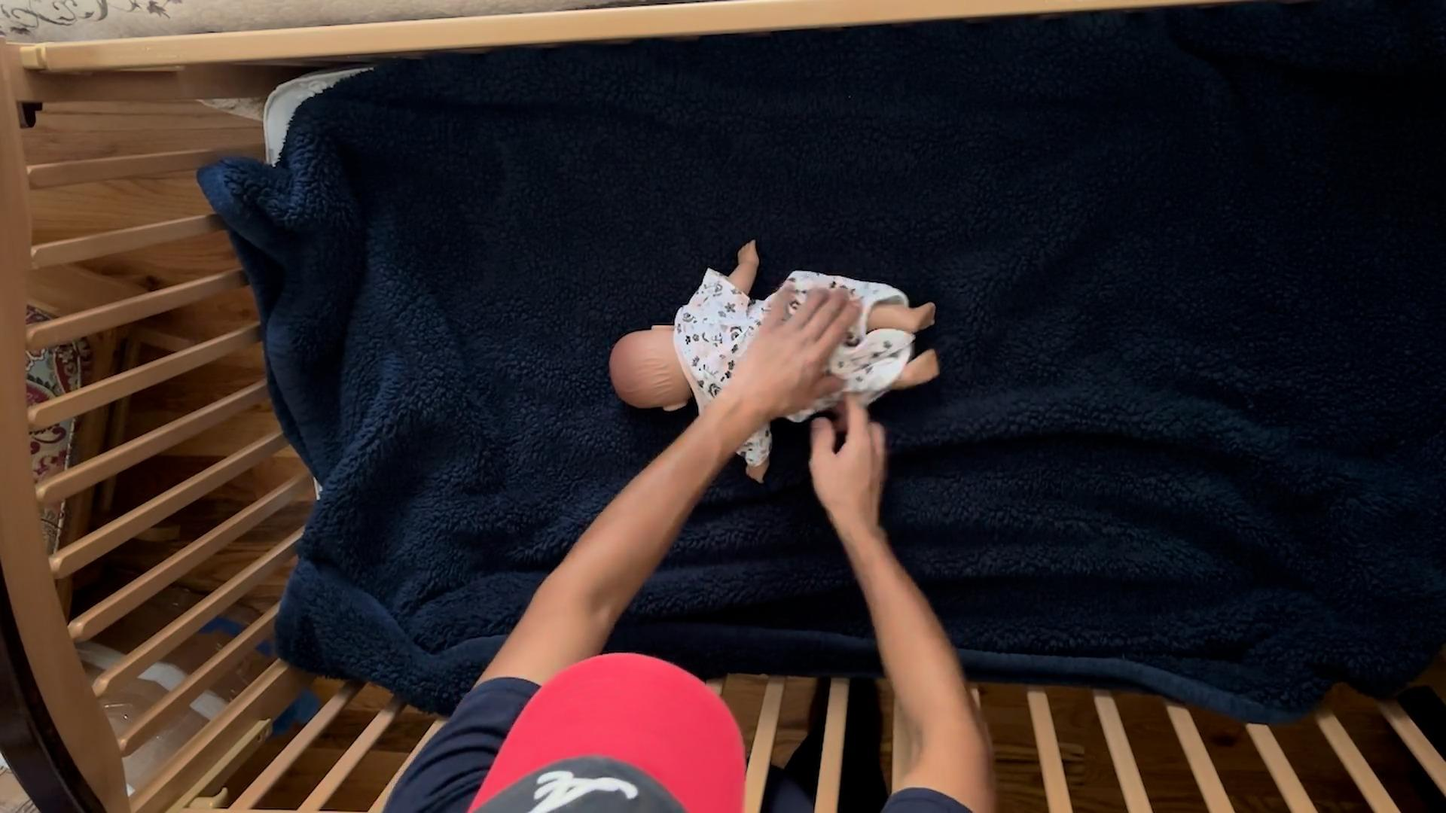baby: (598, 236, 953, 487)
